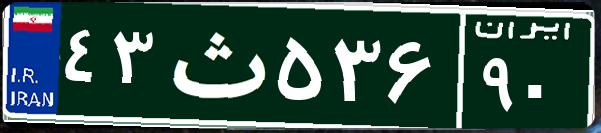0: (525, 38, 570, 115)
3: (330, 28, 385, 110), (110, 28, 158, 105)
4: (57, 26, 110, 107)
5: (273, 28, 330, 110)
6: (385, 28, 445, 110)
9: (475, 38, 525, 113)
ث: (158, 15, 273, 115)
